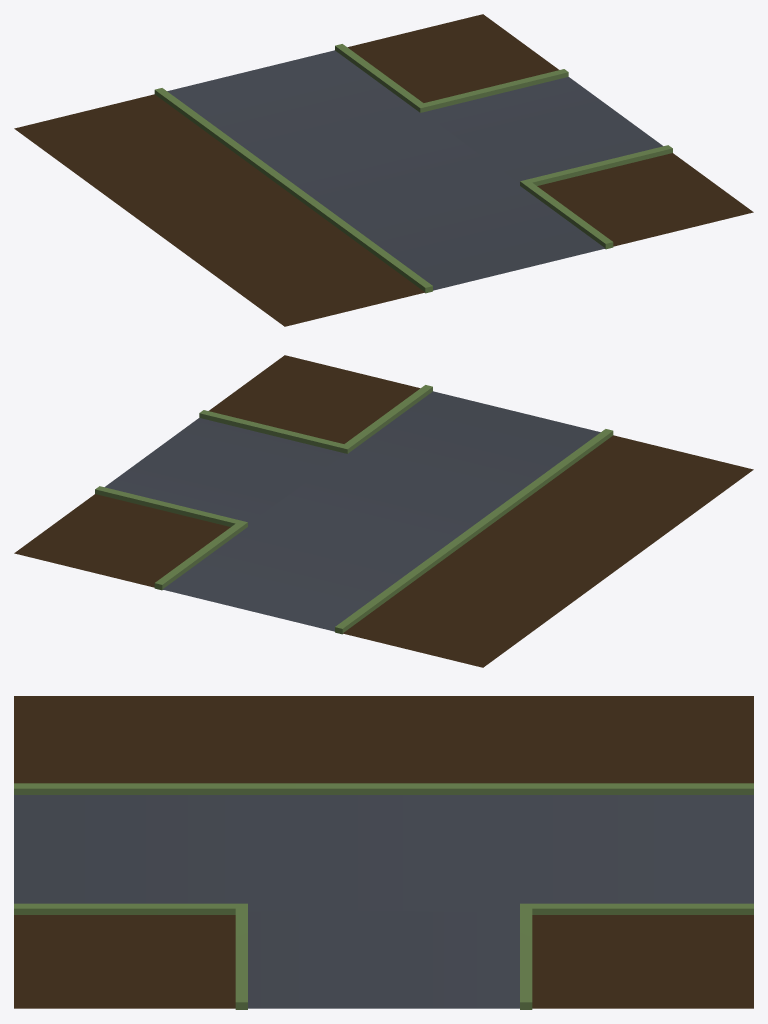
Rendered from Tile_17.fbx.
3 renders of one model, top to bottom at view 1: azimuth 30°, elevation 25°; view 2: azimuth 150°, elevation 25°; view 3: azimuth 270°, elevation 25°, orthographic. The views are drawn at different scales.
Visible parts, largest first — view 1: Tile_17; view 2: Tile_17; view 3: Tile_17.
Part boxes in pixels (x1,y1,x2,y2): Tile_17: [14, 14, 753, 326]; Tile_17: [14, 355, 753, 667]; Tile_17: [14, 696, 753, 1009].
Size of the model in its own units: 3 by 0.0337 by 3.
